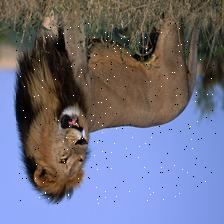Lion: (17, 22, 217, 203)
